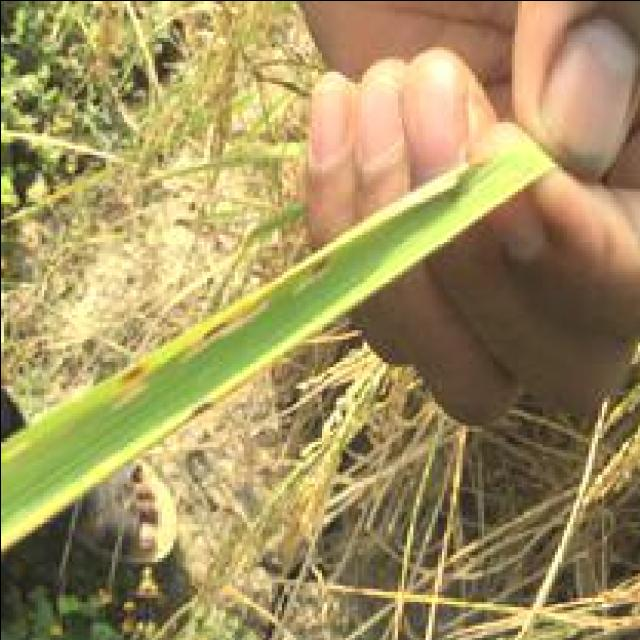Brown_Spot: (185, 296, 268, 332), (292, 237, 336, 274), (110, 351, 144, 378)
